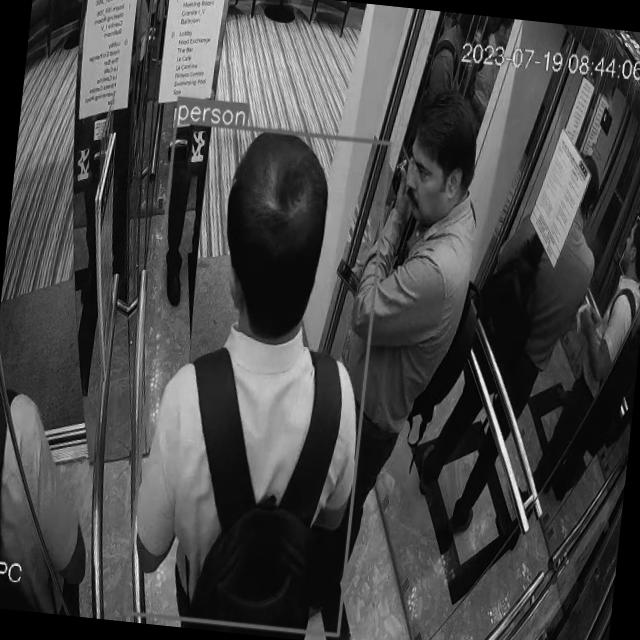person: (124, 120, 387, 631), (298, 79, 494, 638), (0, 169, 143, 589)
